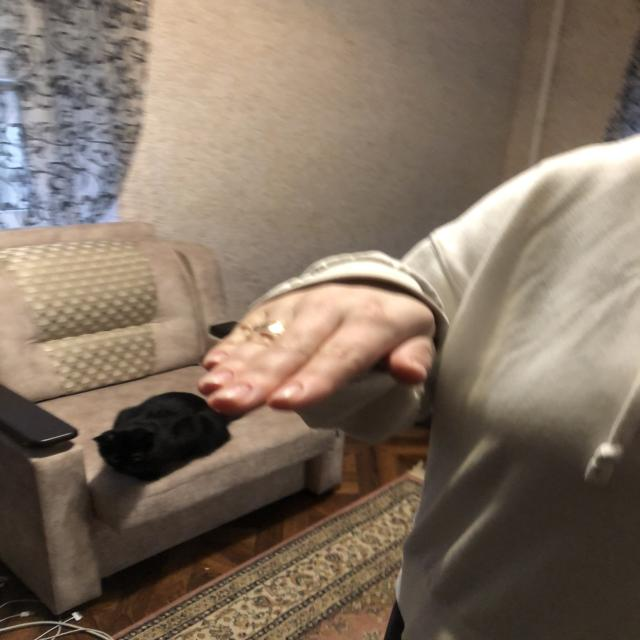paper: (202, 307, 431, 410)
